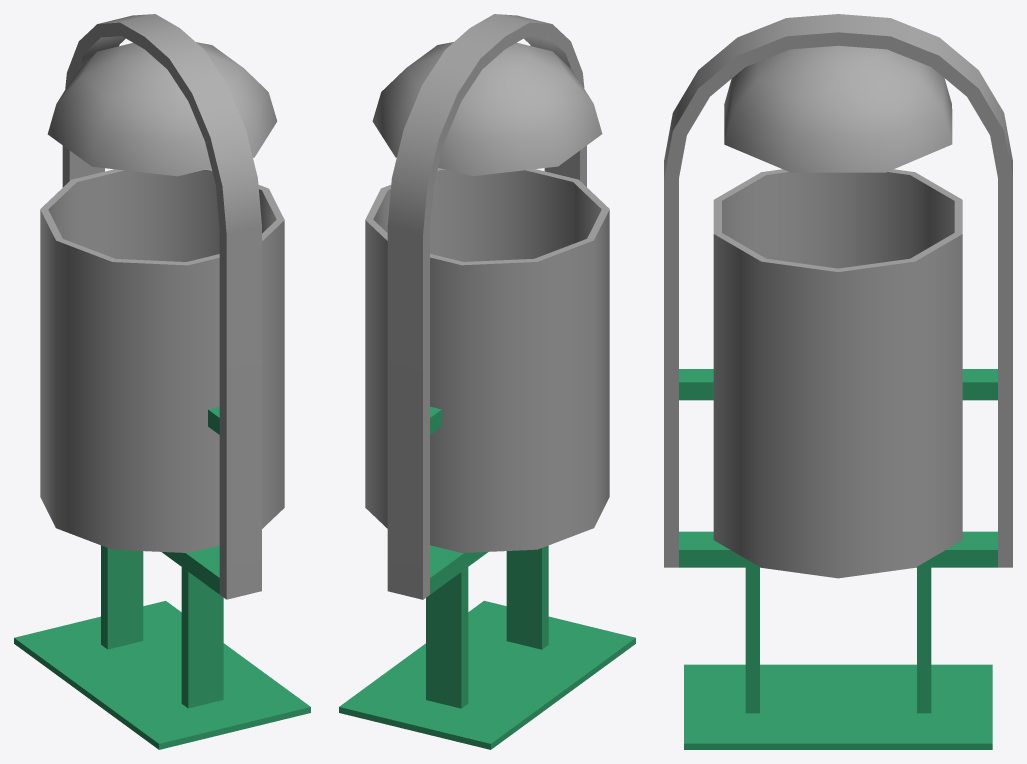
Rendered from Muelleimer.fbx.
The picture shows the model from 3 angles, left to right: view 1: azimuth 30°, elevation 25°; view 2: azimuth 150°, elevation 25°; view 3: azimuth 270°, elevation 25°; orthographic projection. The views are drawn at different scales.
Visible parts, largest first — view 1: Muelleimer; view 2: Muelleimer; view 3: Muelleimer.
Part boxes in pixels (bbox=[...]): Muelleimer: bbox=[14, 14, 310, 749]; Muelleimer: bbox=[339, 14, 635, 749]; Muelleimer: bbox=[664, 14, 1012, 749].
Bounding box in the file's own units: 40.44 × 117 × 53.91.
